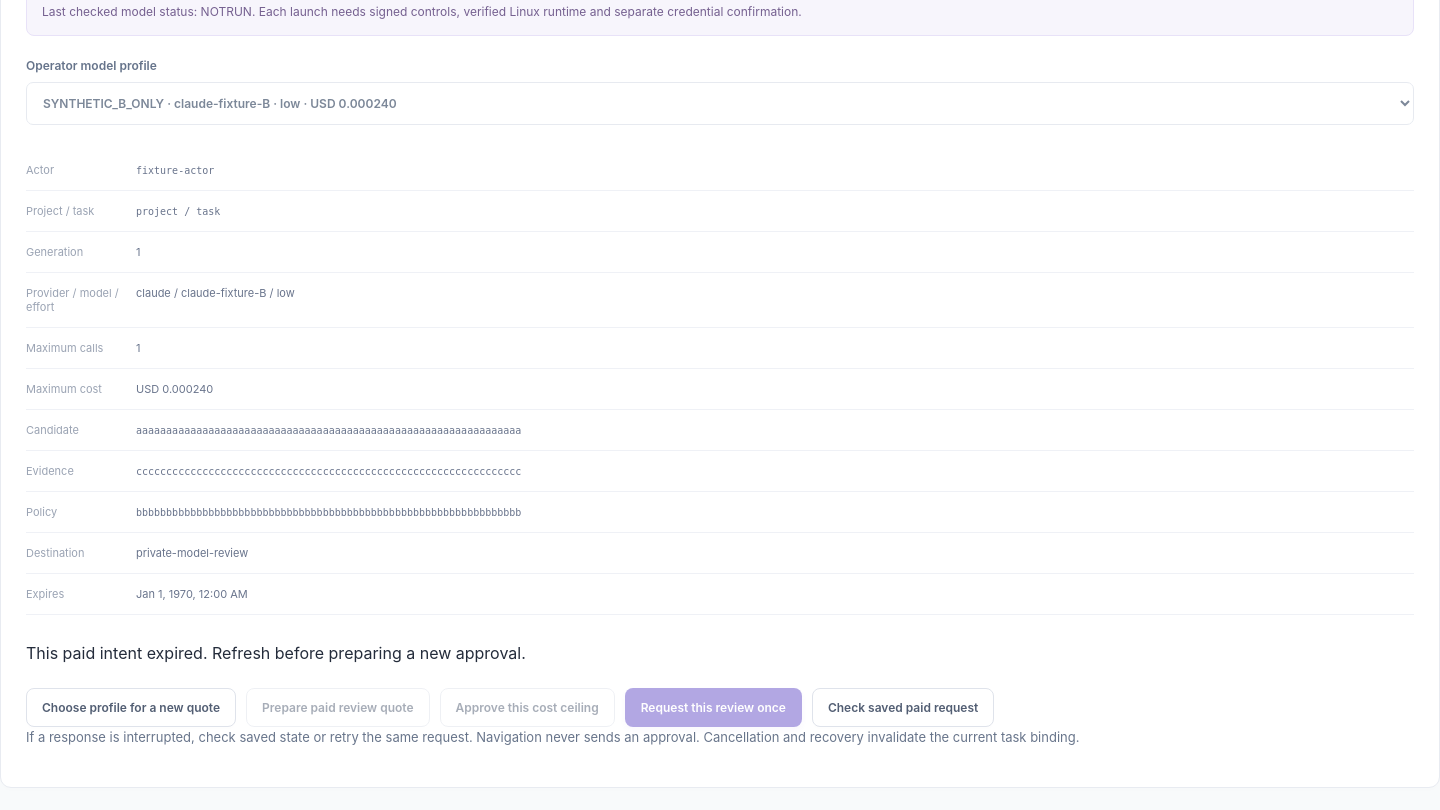
Test case: requires an explicit new choice after expired and quotes the chosen C profile
(page scrolled)
Expected: the text "This paid intent expired. Refresh before preparing a new approval." is shown, 26,643 -> 526,663
Expected: the dropdown shows "SYNTHETIC_B_ONLY · claude-fixture-B · low · USD 0.000240", 26,82 -> 1414,125
Click the button "Choose profile for a new quote" at (131, 708), box 26,688 -> 236,727
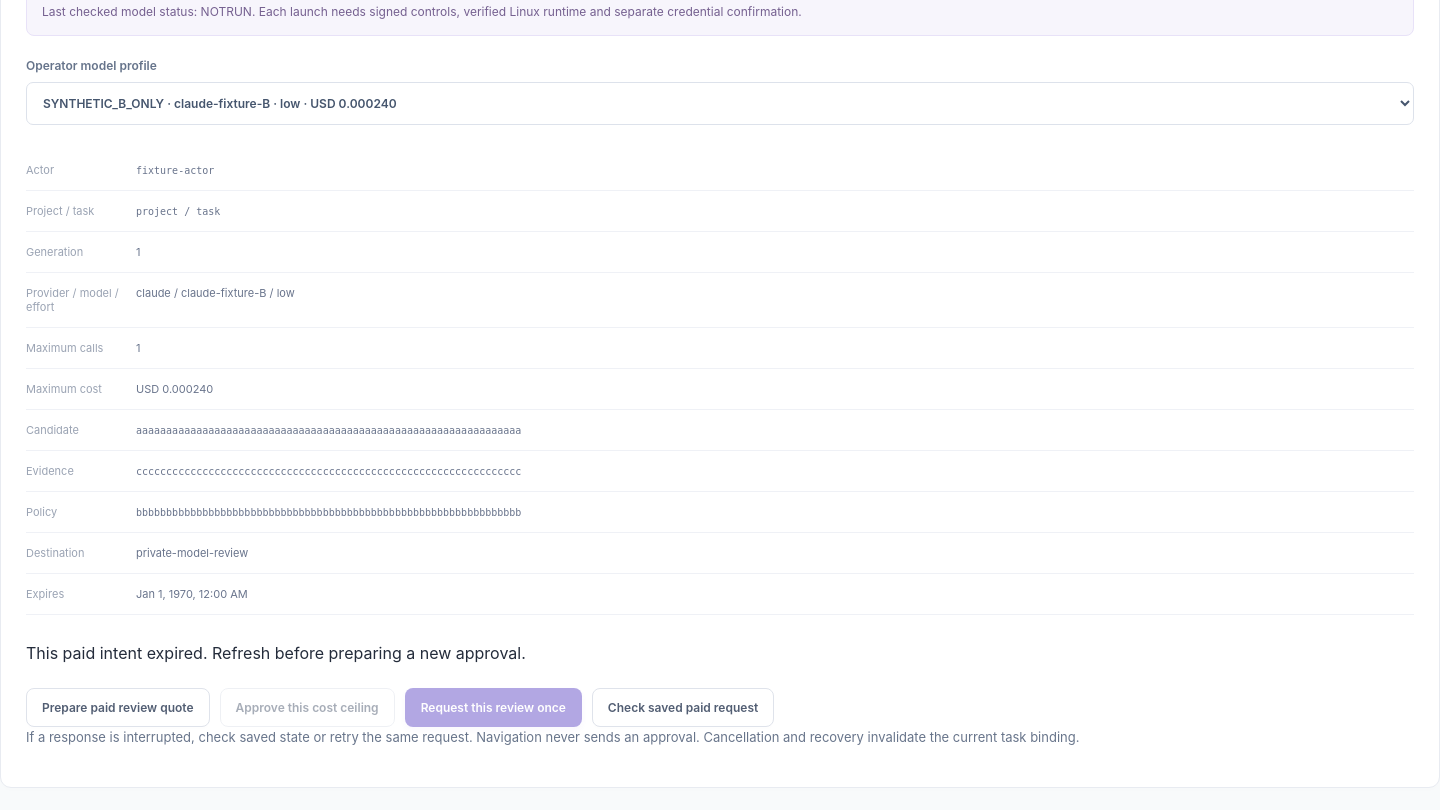
Select "SYNTHETIC_C_ONLY · claude-fixture-C · low · USD 0.000240" in the dropdown at (720, 103), box 26,82 -> 1414,125
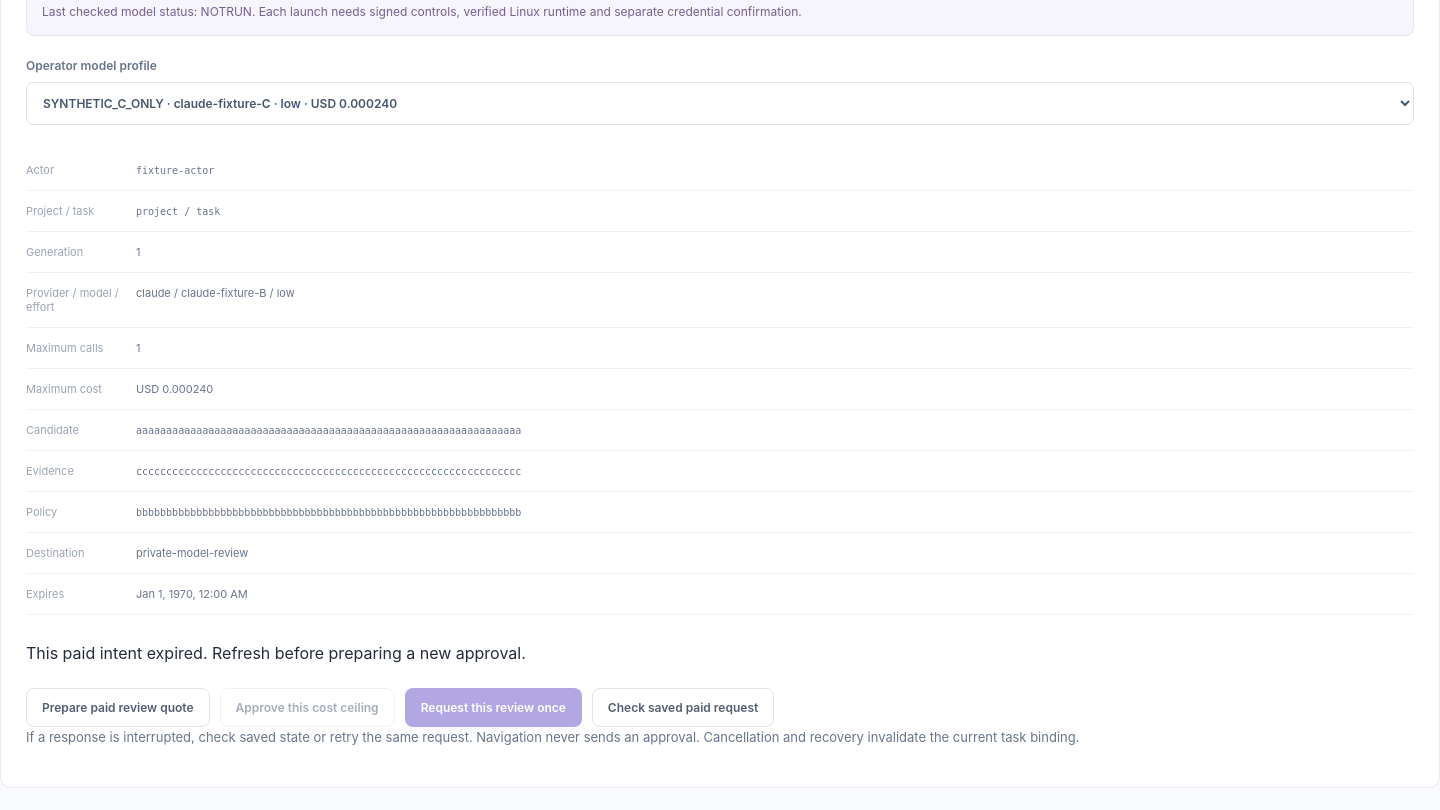
Expected: the text "claude / claude-fixture-B / low" is shown, 136,286 -> 295,300
Expected: the button "Approve this cost ceiling" is disabled, 220,688 -> 395,727
Click the button "Prepare paid review quote" at (118, 708), box 26,688 -> 210,727
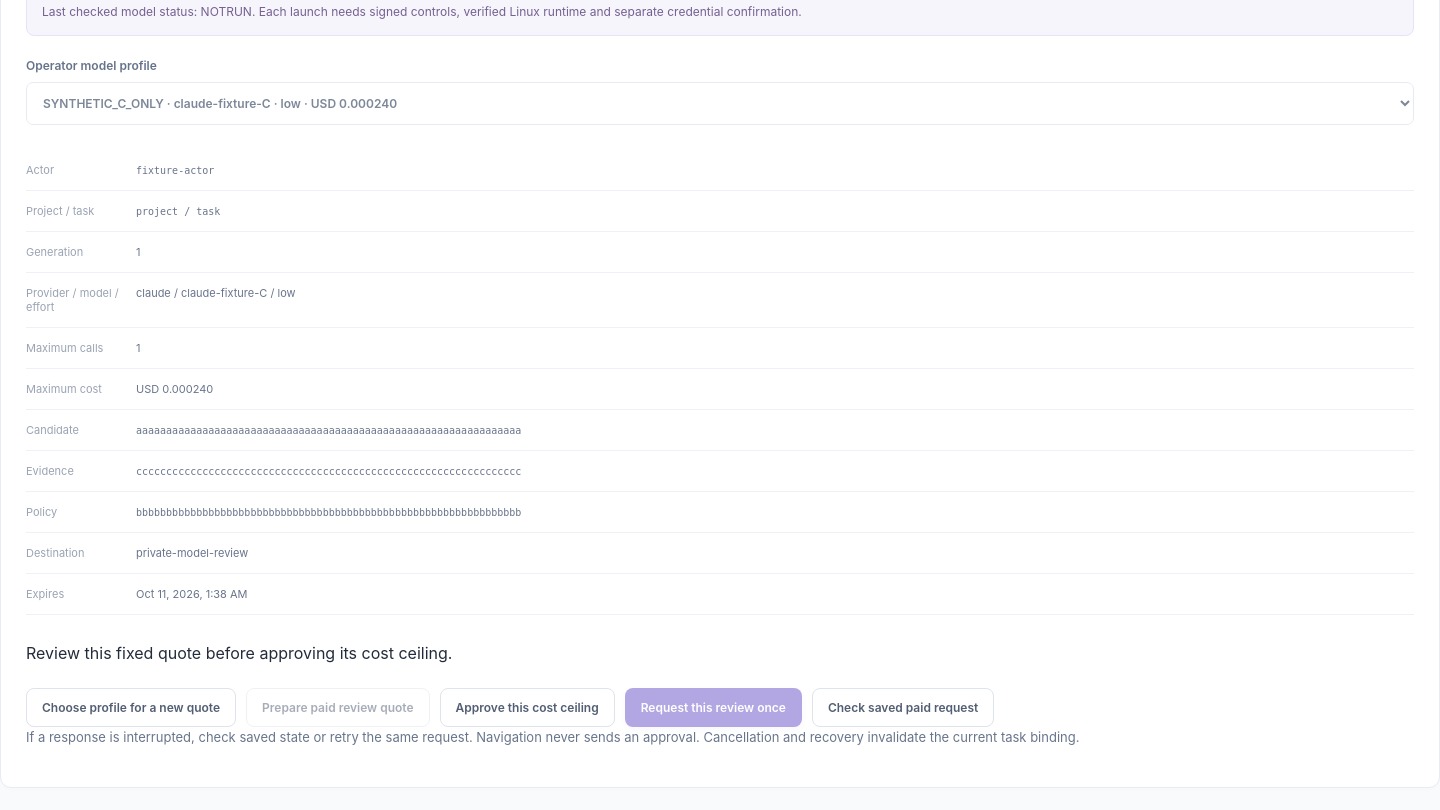
Expected: the text "claude / claude-fixture-C / low" is shown, 136,286 -> 296,300
Expected: the dropdown is disabled, 26,82 -> 1414,125
